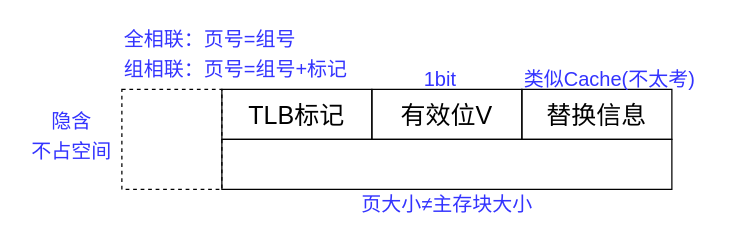
Image size: 730x238. Some labels were removed from this diagram. The centre of each missing label's shape, as x and y in pixels:
"行号 (组号)" goes at (x=171, y=138).
"页框号" goes at (x=446, y=163).
